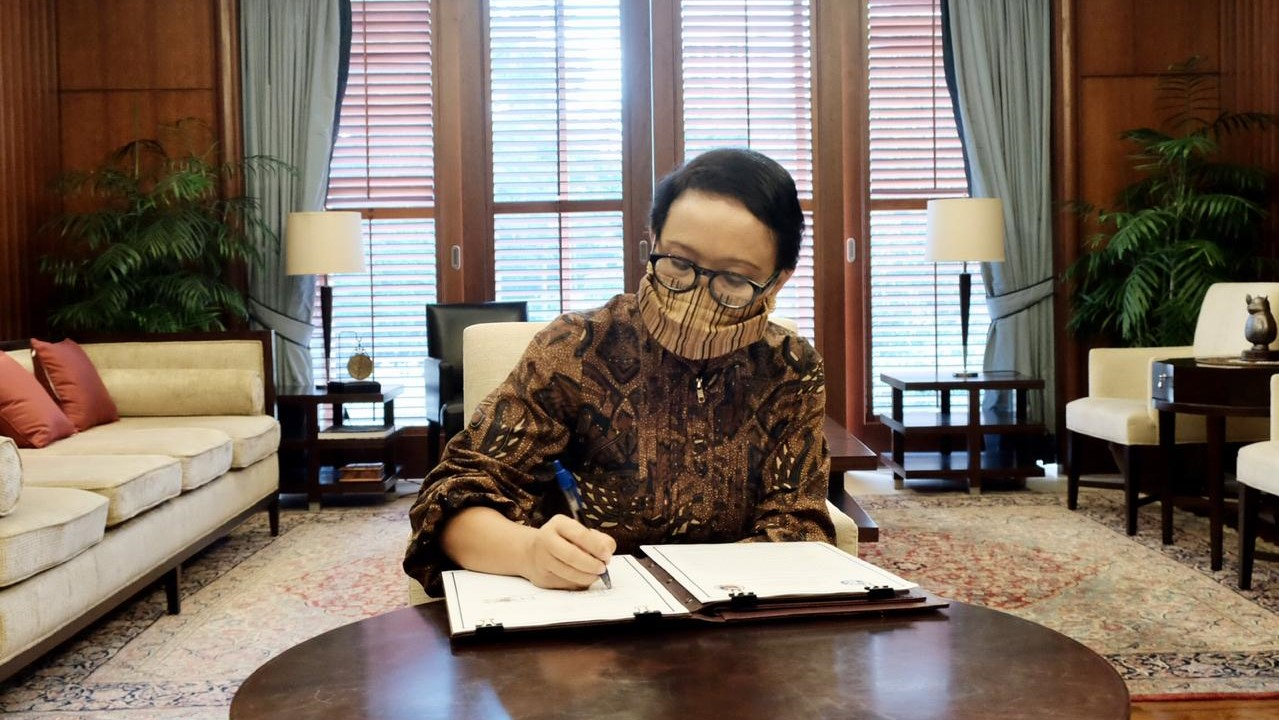lampu: (282, 204, 365, 387), (923, 192, 1006, 375)
sova: (1, 335, 278, 687)
tanaman: (61, 138, 257, 336), (1110, 110, 1253, 333)
